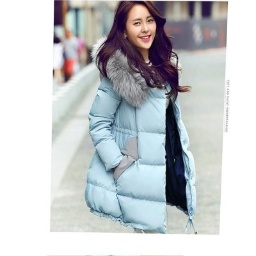face: (103, 2, 174, 71)
